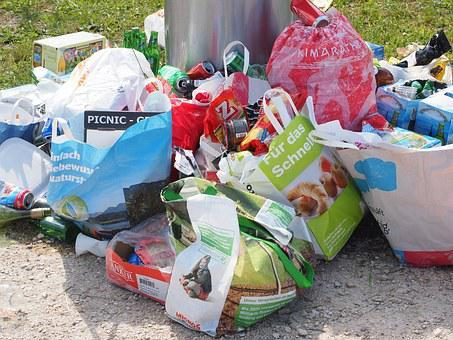garbage: (0, 15, 453, 279)
